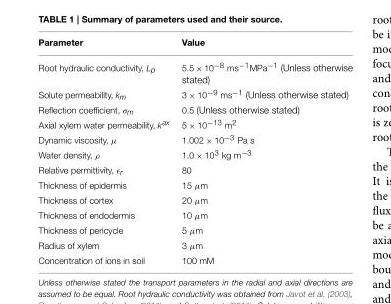table: (37, 37, 351, 264)
table column: (174, 37, 351, 264), (37, 37, 174, 264)
table column header: (37, 37, 351, 53)
table row: (37, 53, 351, 86), (37, 37, 351, 53), (37, 86, 351, 102), (37, 146, 351, 162), (37, 162, 351, 178), (37, 116, 351, 131), (37, 131, 351, 146), (37, 192, 351, 207), (37, 207, 351, 222), (37, 222, 351, 237), (37, 237, 351, 252), (37, 102, 351, 116), (37, 178, 351, 192), (37, 252, 351, 264)
